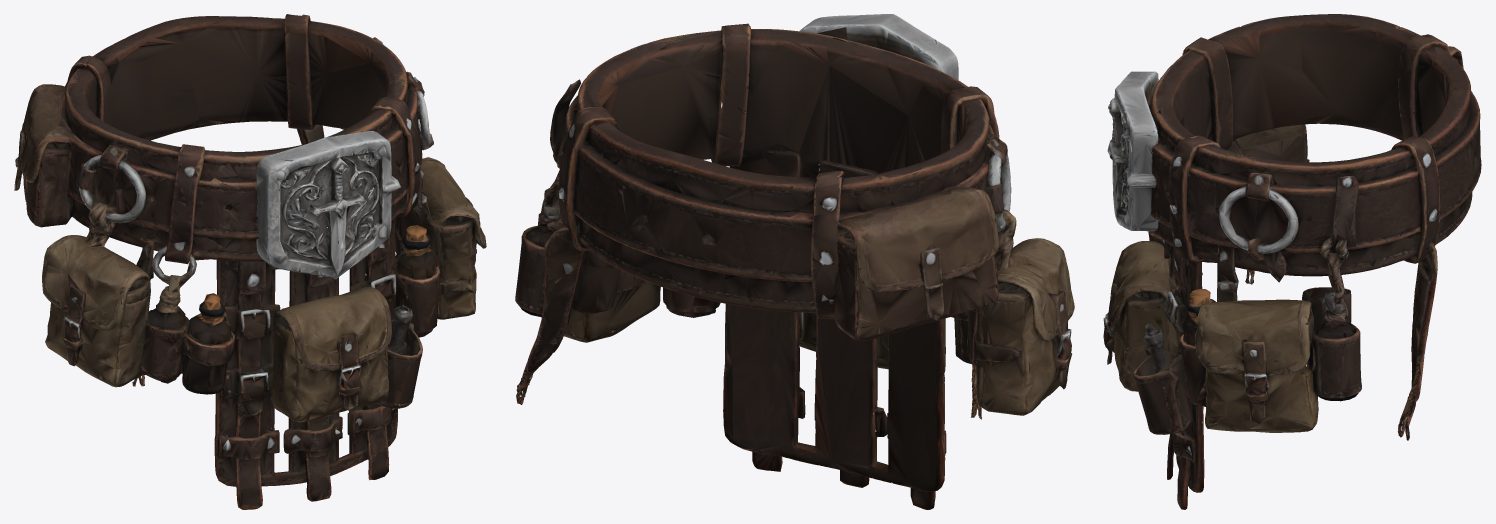
Rendered from eq_belt.glb.
3 renders of one model, left to right at view 1: azimuth 30°, elevation 25°; view 2: azimuth 150°, elevation 25°; view 3: azimuth 270°, elevation 25°, orthographic. The views are drawn at different scales.
Parts seen in each view (by area): view 1: tripo_node_5b5d05c8-6434-472e-a152-e6b193895119; view 2: tripo_node_5b5d05c8-6434-472e-a152-e6b193895119; view 3: tripo_node_5b5d05c8-6434-472e-a152-e6b193895119.
Part boxes in pixels (bbox=[...]): tripo_node_5b5d05c8-6434-472e-a152-e6b193895119: bbox=[14, 14, 486, 509]; tripo_node_5b5d05c8-6434-472e-a152-e6b193895119: bbox=[515, 14, 1074, 509]; tripo_node_5b5d05c8-6434-472e-a152-e6b193895119: bbox=[1103, 14, 1481, 509].
Bounding box in the file's own units: 0.95 × 0.8193 × 0.7271.
1 material, 1 textured.
